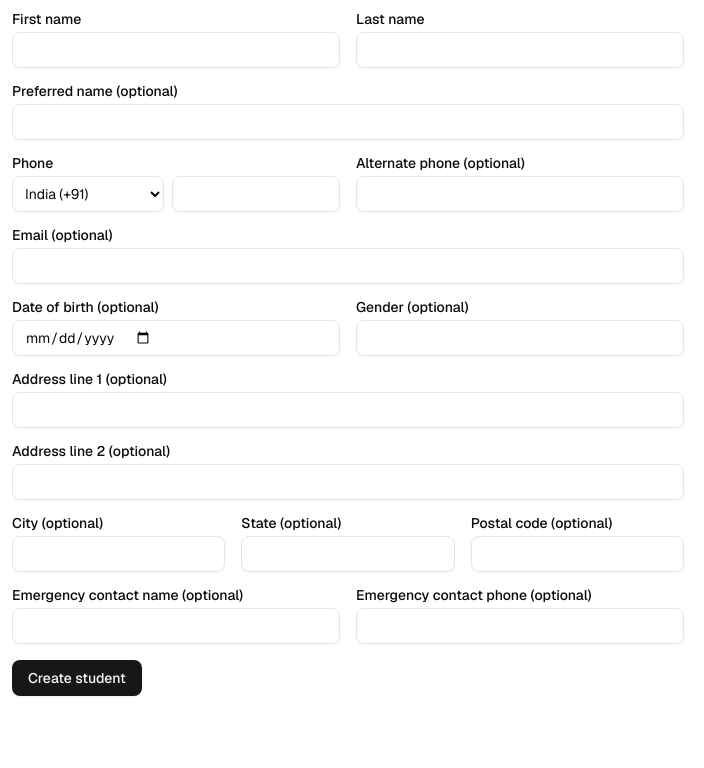
Test: StudentForm + createStudentAction: real two-step duplicate override flow › does not create anything on the first submission alone, even with the checkbox pre-checked in the same click
This screenshot has width=704, height=768.
Step 1. Type "Phase5Smoke" into the field labelled "First name" → (176, 50), box [12,32,340,68]
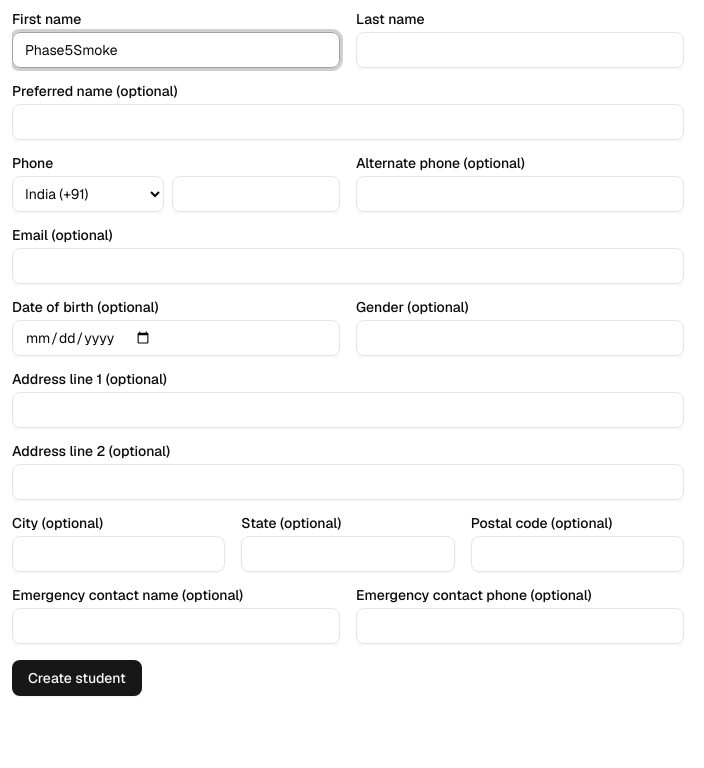
Step 2. Type "StudentB" into the field labelled "Last name" → (520, 50), box [356,32,684,68]
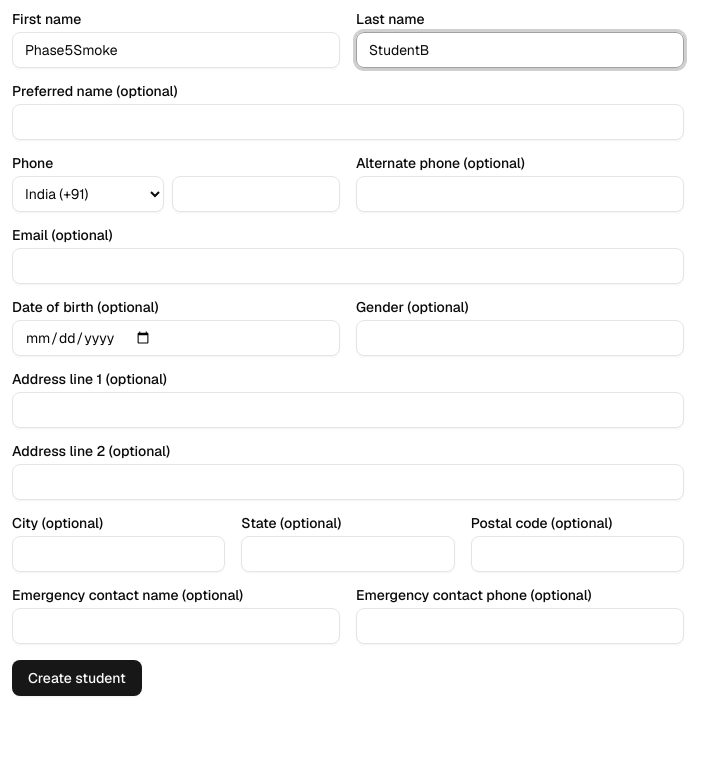
Step 3. Type "9898595069" into the field labelled "Phone" → (256, 194), box [172,176,340,212]
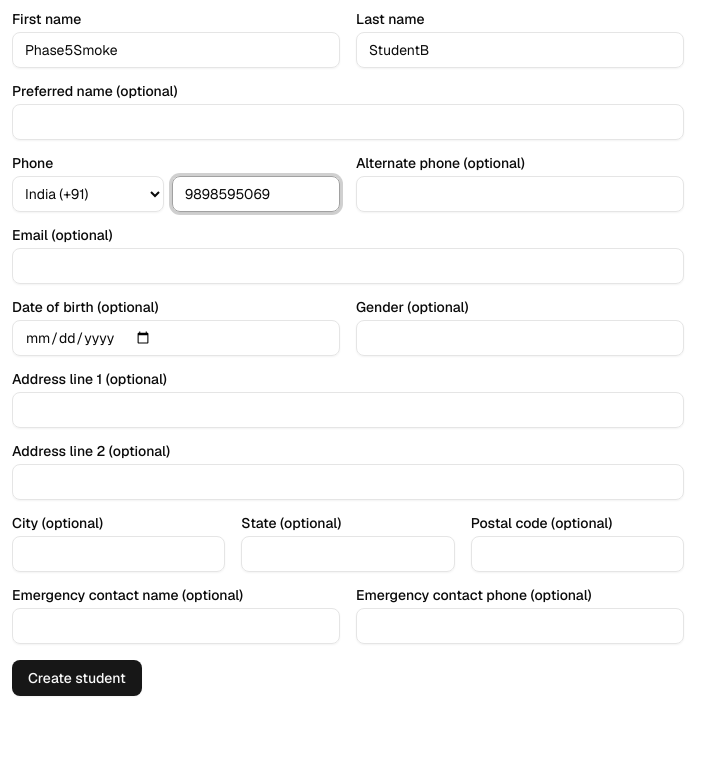
Step 4. Click the button "Create student" → (77, 678), box [12,660,142,696]
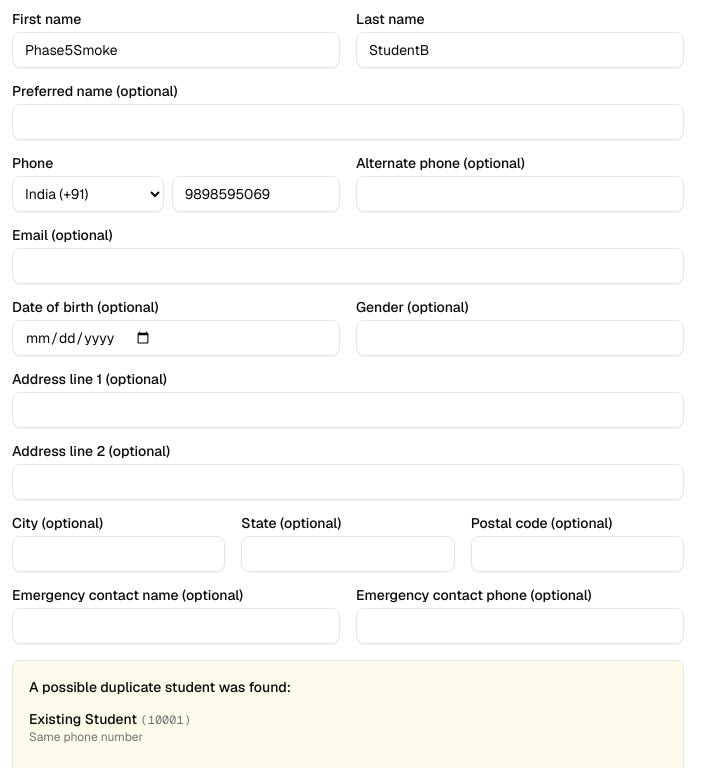
Check: the text "A possible duplicate student was found:" is shown, box [29,678,291,696]
